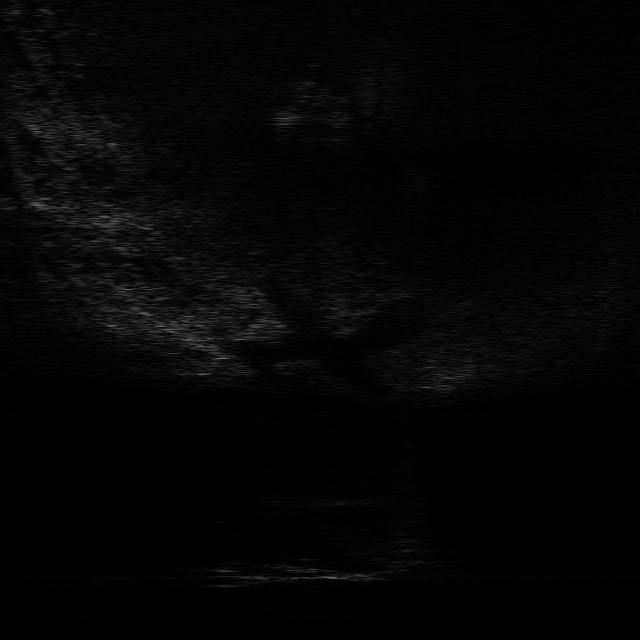plane: (199, 534, 436, 590)
